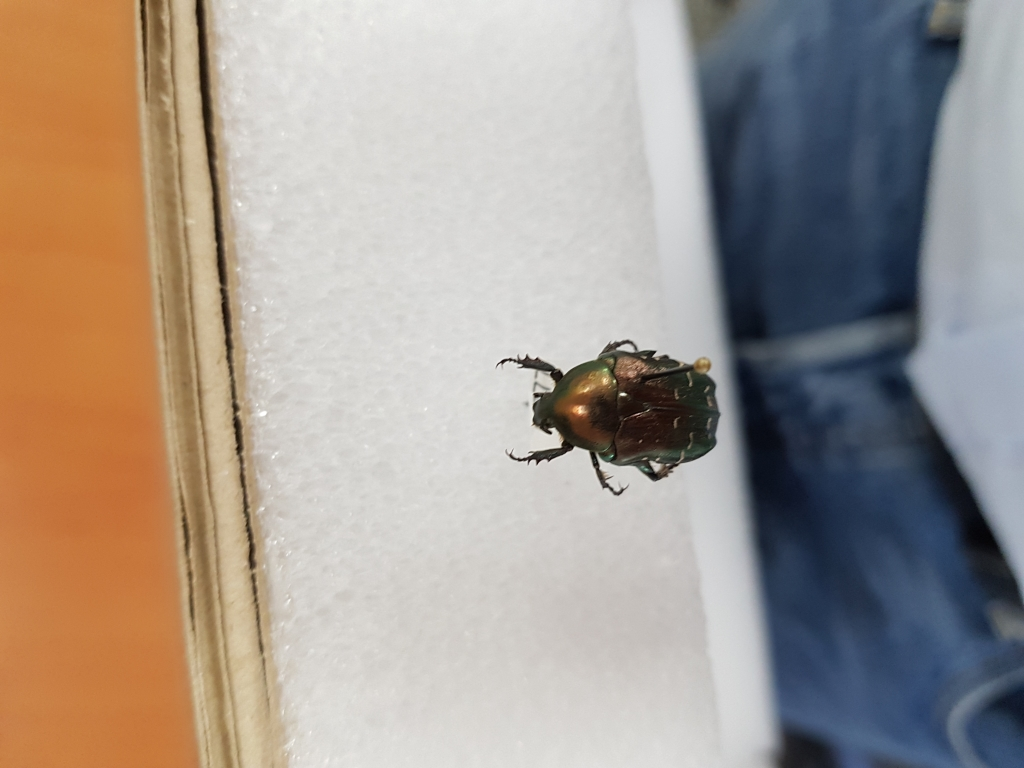Cetonia_aurata: (499, 333, 727, 500)
